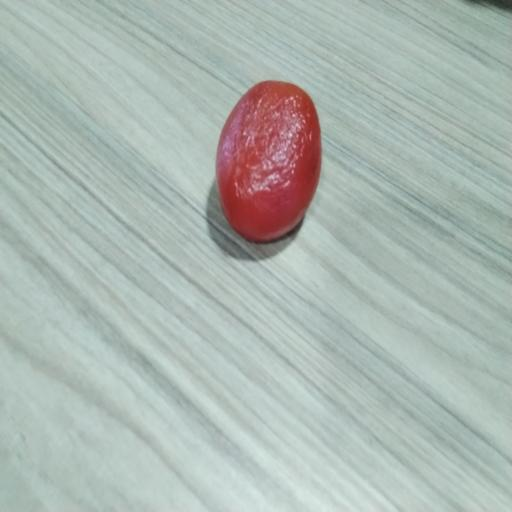spoiled: (216, 81, 321, 242)
